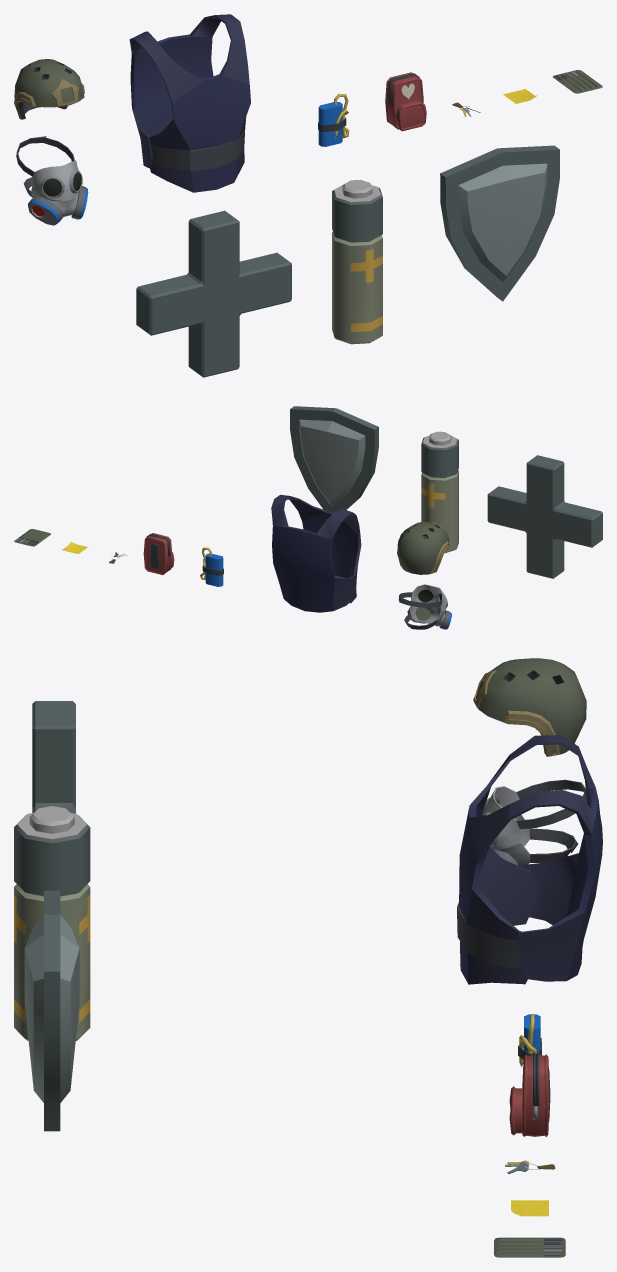
The model's file is Props_Pickups.FBX.
The picture shows the model from 3 angles, top to bottom: view 1: azimuth 30°, elevation 25°; view 2: azimuth 150°, elevation 25°; view 3: azimuth 270°, elevation 25°; orthographic projection. The views are drawn at different scales.
Parts seen in each view (by area): view 1: PickupGeo_BodyArmour, ContactPickupGeo_Health, ContactPickupGeo_Armour, ContactPickupGeo_Shield, PickupGeo_GasMask, PickupGeo_Helmet, PickupGeo_HealthPack, PickupGeo_ShieldBattery, PickupGeo_Lockpicks; view 2: PickupGeo_BodyArmour, ContactPickupGeo_Health, ContactPickupGeo_Armour, ContactPickupGeo_Shield, PickupGeo_Helmet, PickupGeo_GasMask, PickupGeo_HealthPack, PickupGeo_ShieldBattery, PickupGeo_Lockpicks; view 3: PickupGeo_BodyArmour, ContactPickupGeo_Shield, ContactPickupGeo_Armour, PickupGeo_Helmet, ContactPickupGeo_Health, PickupGeo_GasMask, PickupGeo_HealthPack, PickupGeo_Lockpicks, PickupGeo_ShieldBattery.
Boxes of the visible parts, x1=… form: PickupGeo_BodyArmour: x1=129, y1=14, x2=250, y2=192; ContactPickupGeo_Health: x1=136, y1=210, x2=291, y2=377; ContactPickupGeo_Armour: x1=440, y1=145, x2=559, y2=301; ContactPickupGeo_Shield: x1=332, y1=179, x2=382, y2=344; PickupGeo_GasMask: x1=16, y1=136, x2=88, y2=225; PickupGeo_Helmet: x1=14, y1=59, x2=84, y2=119; PickupGeo_HealthPack: x1=385, y1=72, x2=426, y2=131; PickupGeo_ShieldBattery: x1=318, y1=94, x2=349, y2=146; PickupGeo_Lockpicks: x1=552, y1=70, x2=602, y2=93; PickupGeo_BodyArmour: x1=271, y1=494, x2=361, y2=612; ContactPickupGeo_Health: x1=487, y1=455, x2=602, y2=578; ContactPickupGeo_Armour: x1=290, y1=406, x2=378, y2=512; ContactPickupGeo_Shield: x1=421, y1=431, x2=458, y2=553; PickupGeo_Helmet: x1=397, y1=522, x2=449, y2=574; PickupGeo_GasMask: x1=398, y1=584, x2=451, y2=629; PickupGeo_HealthPack: x1=143, y1=533, x2=174, y2=574; PickupGeo_ShieldBattery: x1=200, y1=547, x2=223, y2=586; PickupGeo_Lockpicks: x1=14, y1=529, x2=50, y2=546; PickupGeo_BodyArmour: x1=457, y1=735, x2=602, y2=984; ContactPickupGeo_Shield: x1=14, y1=806, x2=90, y2=1040; ContactPickupGeo_Armour: x1=24, y1=890, x2=79, y2=1131; PickupGeo_Helmet: x1=473, y1=658, x2=586, y2=756; ContactPickupGeo_Health: x1=32, y1=701, x2=75, y2=813; PickupGeo_GasMask: x1=482, y1=779, x2=586, y2=865; PickupGeo_HealthPack: x1=509, y1=1052, x2=550, y2=1136; PickupGeo_Lockpicks: x1=494, y1=1237, x2=565, y2=1257; PickupGeo_ShieldBattery: x1=518, y1=1014, x2=541, y2=1067.
Bounding box in the file's own units: 215 × 61.49 × 123.
